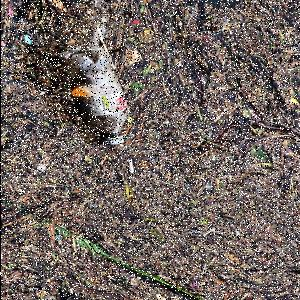Plastic-bottle: (59, 48, 130, 146)
